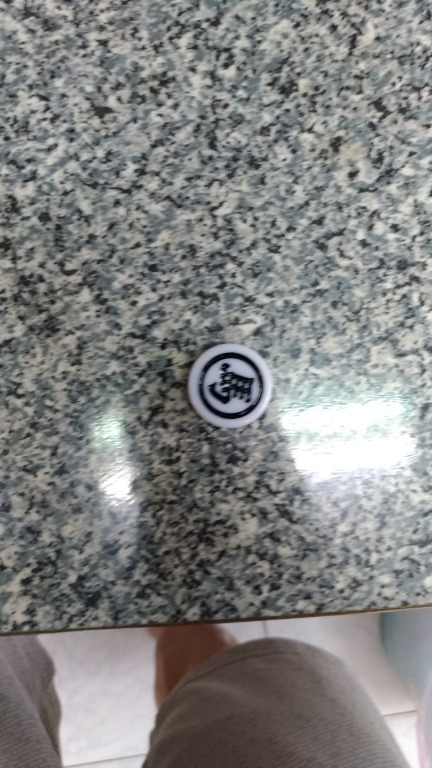b-knight: (179, 343, 292, 439)
